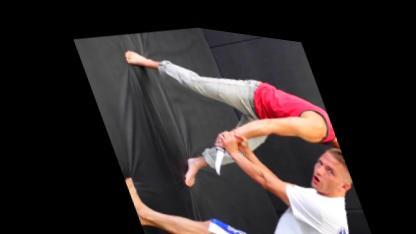knife: (193, 121, 234, 173)
